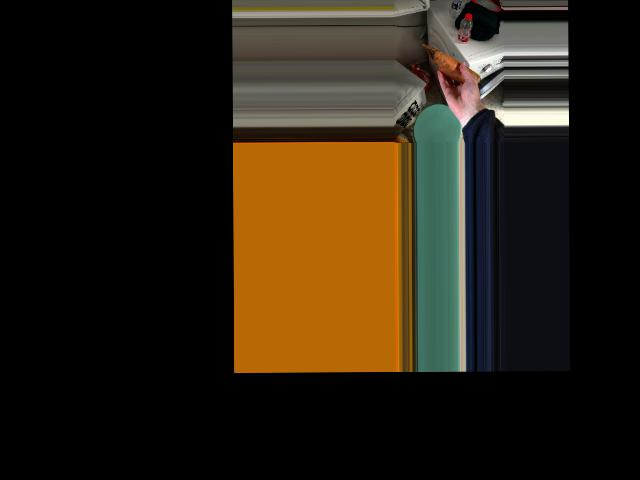sweet_potato: (442, 58, 478, 89)
